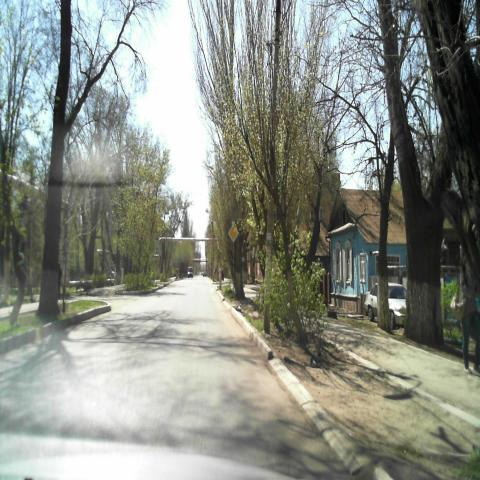2_1: (228, 222, 238, 243)
